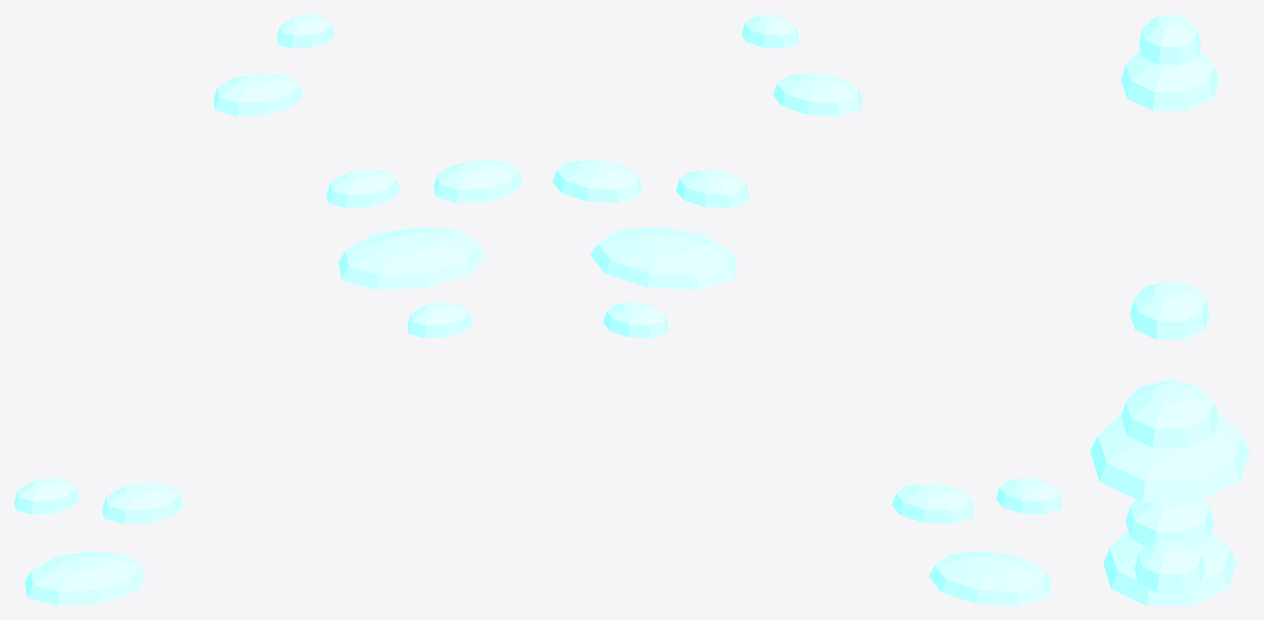
File: mine_mushrooms_wall.glb
3 renders of one model, left to right at view 1: azimuth 30°, elevation 25°; view 2: azimuth 150°, elevation 25°; view 3: azimuth 270°, elevation 25°, orthographic. The views are drawn at different scales.
Parts seen in each view (by area): view 1: mine_mushrooms_wall; view 2: mine_mushrooms_wall; view 3: mine_mushrooms_wall.
Boxes of the visible parts, x1,y1,x2,y2 form: mine_mushrooms_wall: (14, 14, 523, 605); mine_mushrooms_wall: (552, 14, 1061, 605); mine_mushrooms_wall: (1090, 14, 1249, 605).
Size of the model in its own units: 2.62 by 2.56 by 0.5318.
